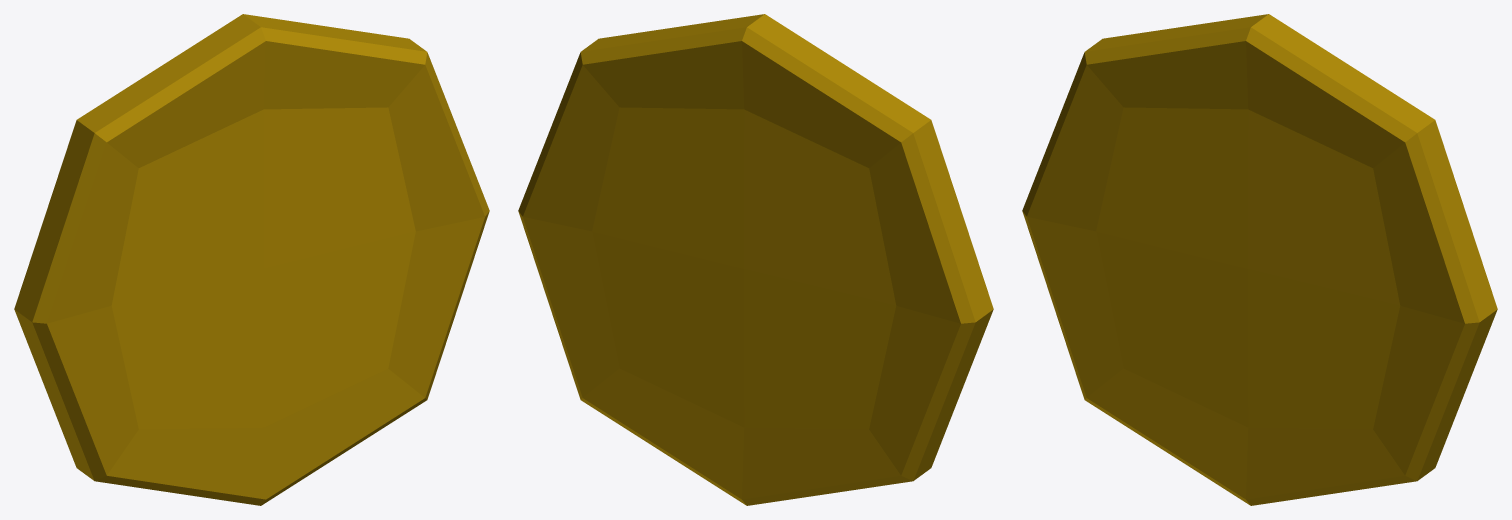
Rendered from SM_Coin.fbx.
3 views of the same model, side by side, from view 1: azimuth 30°, elevation 25°; view 2: azimuth 150°, elevation 25°; view 3: azimuth 330°, elevation 25° (orthographic).
Parts seen in each view (by area): view 1: SM_Coin; view 2: SM_Coin; view 3: SM_Coin.
Part boxes in pixels (<box>): SM_Coin: <box>14,14,489,505</box>; SM_Coin: <box>518,14,993,505</box>; SM_Coin: <box>1022,14,1497,505</box>.
Size of the model in its own units: 55.81 by 55.81 by 5.94.
